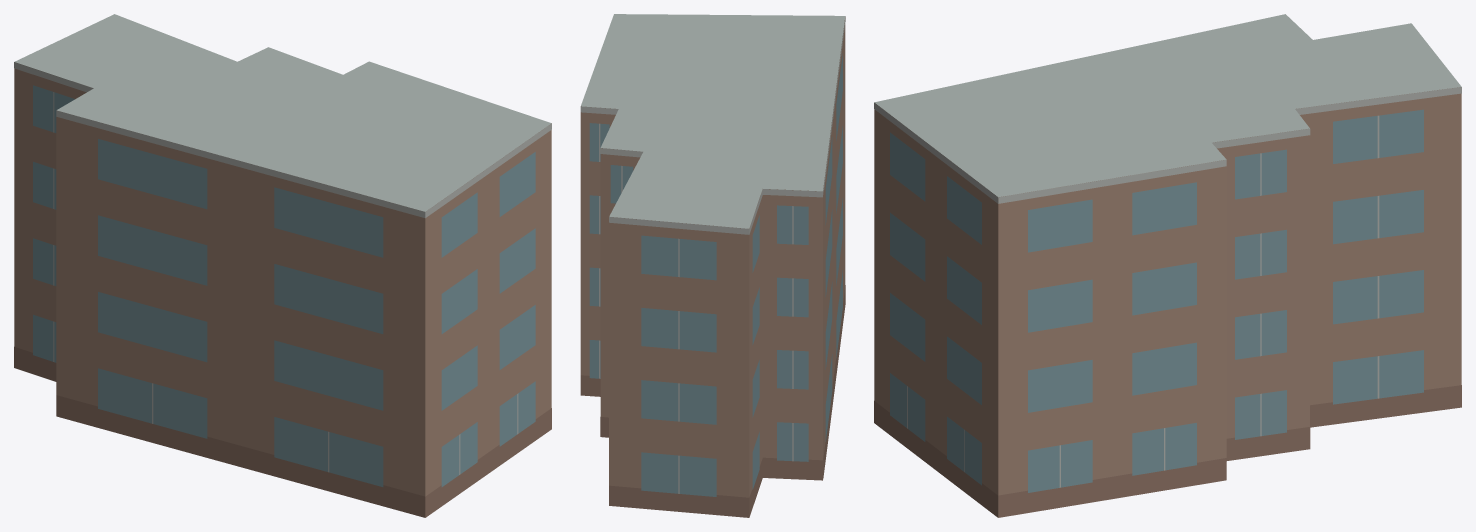
File: survey-upis-32638602.glb
3 renders of one model, left to right at view 1: azimuth 30°, elevation 25°; view 2: azimuth 150°, elevation 25°; view 3: azimuth 270°, elevation 25°, orthographic. The views are drawn at different scales.
Parts seen in each view (by area): view 1: survey-upis-32638602.tmp; view 2: survey-upis-32638602.tmp; view 3: survey-upis-32638602.tmp.
Part boxes in pixels (left/top/right/bottom): survey-upis-32638602.tmp: left=14, top=14, right=551, bottom=517; survey-upis-32638602.tmp: left=580, top=14, right=845, bottom=517; survey-upis-32638602.tmp: left=874, top=14, right=1461, bottom=517.
Size of the model in its own units: 14.35 by 11.7 by 19.44.
